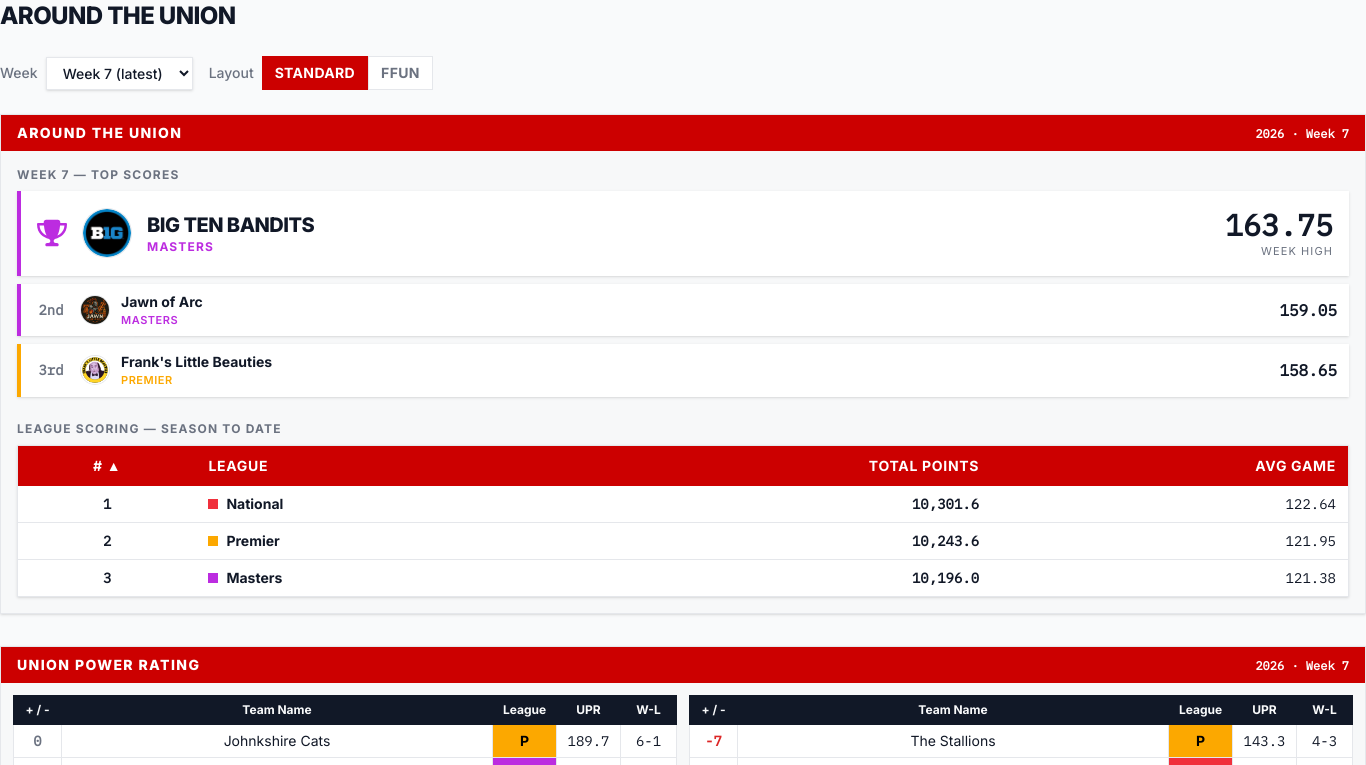
the FFUN layout › is reachable from the toggle and lands in the URL
expect the 1st heading "Around the Union" is shown: met, box [0,1,235,30]
expect the table that starts with "League" is shown: met, box [18,446,1348,596]
Click the button "FFUN": (400, 73) [368,56,433,90]
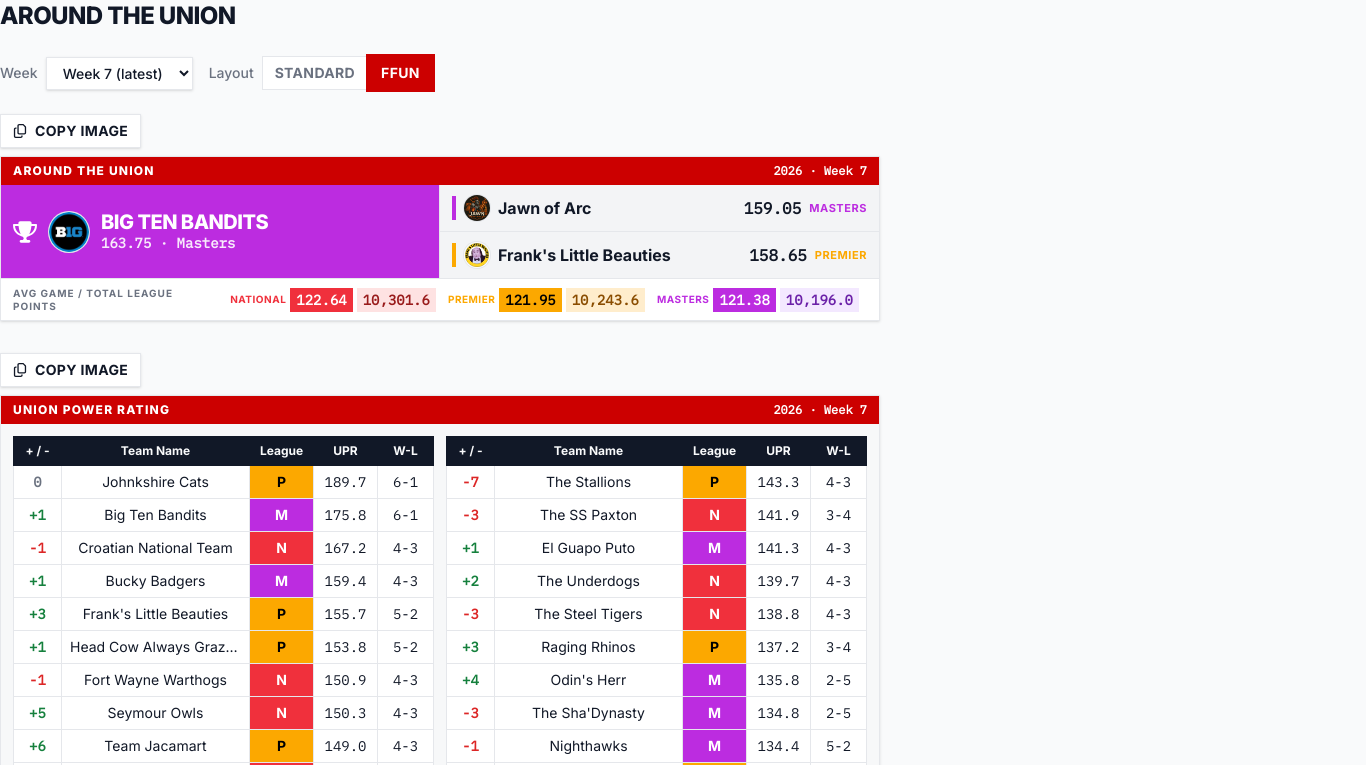
expect the button "Total Points" is gone: met
expect the text "Avg Game / Total League Points" is shown: met, box [13,287,173,312]
